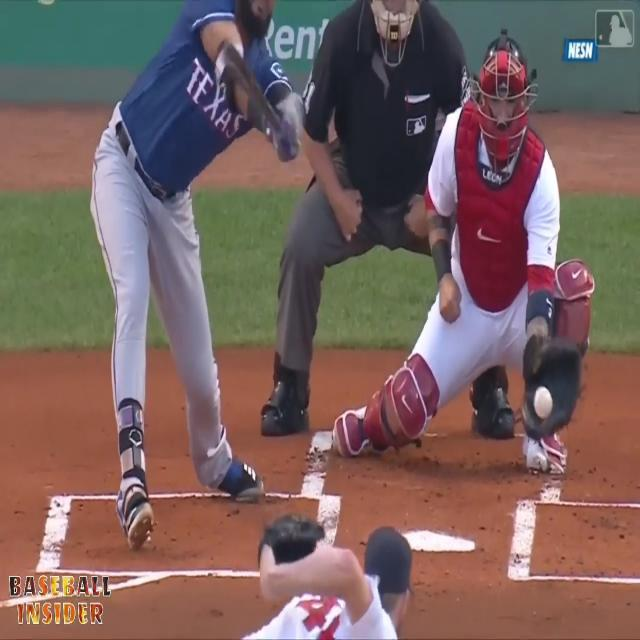baseball: (534, 385, 553, 419)
